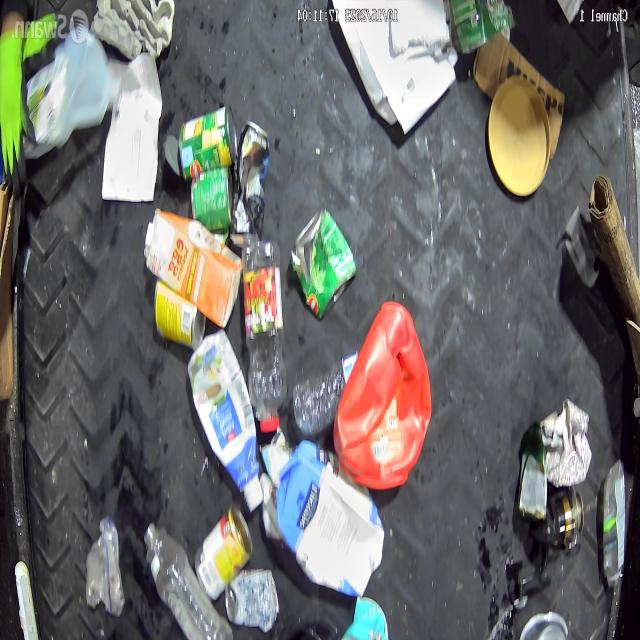can: (338, 302, 438, 484), (295, 209, 355, 317), (193, 505, 253, 600), (229, 119, 270, 249), (178, 104, 238, 179), (152, 277, 207, 351), (224, 566, 279, 633), (190, 166, 234, 232)
non_white_jug: (276, 438, 384, 600)
plastic_bottle: (144, 522, 233, 640), (241, 240, 288, 431)
